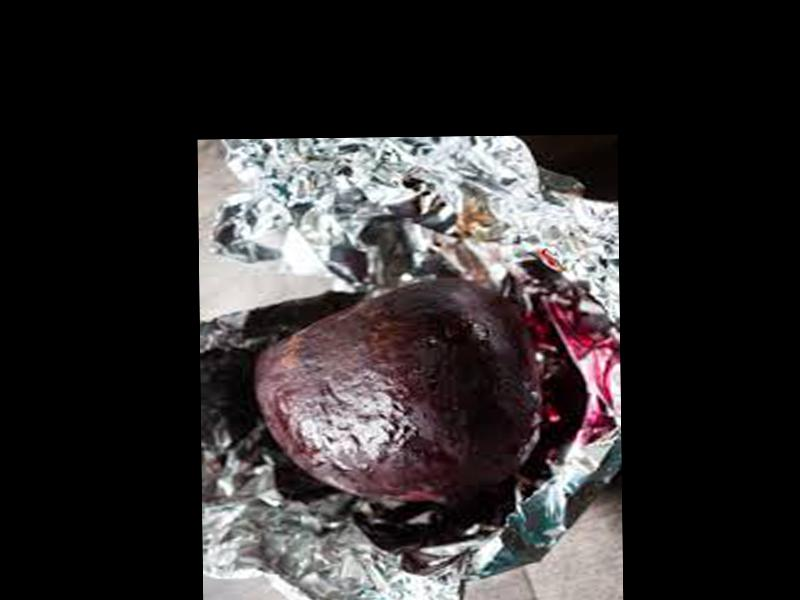Beet: (251, 276, 531, 508)
